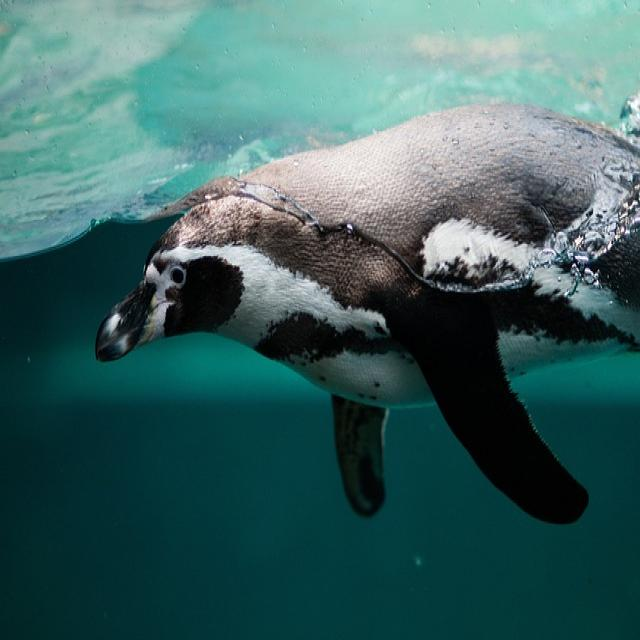Carnivorous: (94, 102, 640, 527)
